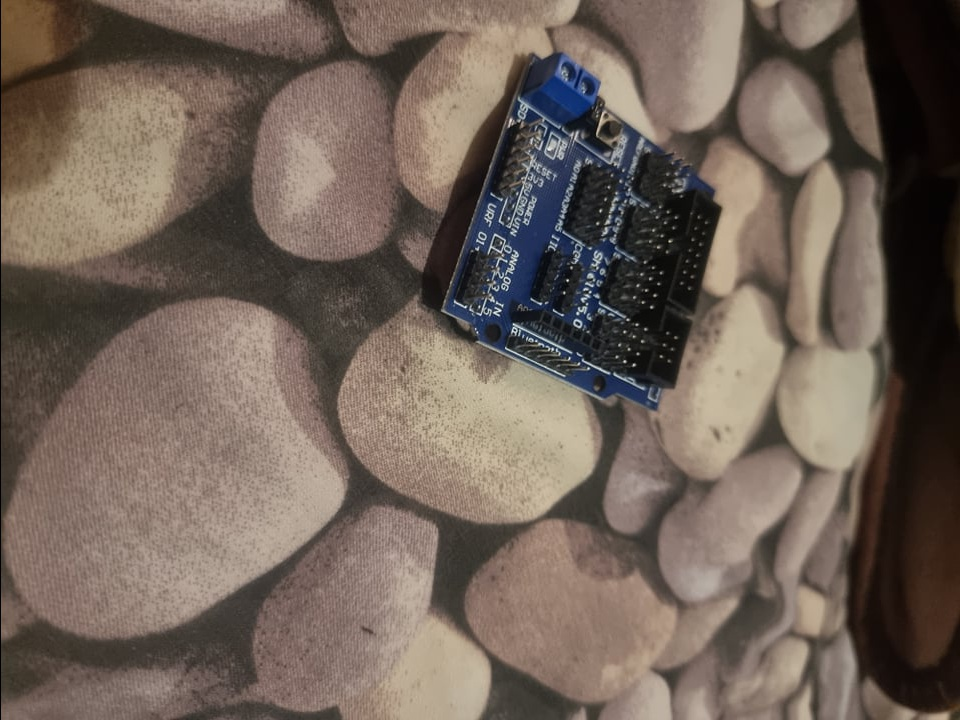5V EXPANSION: (438, 50, 722, 414)
